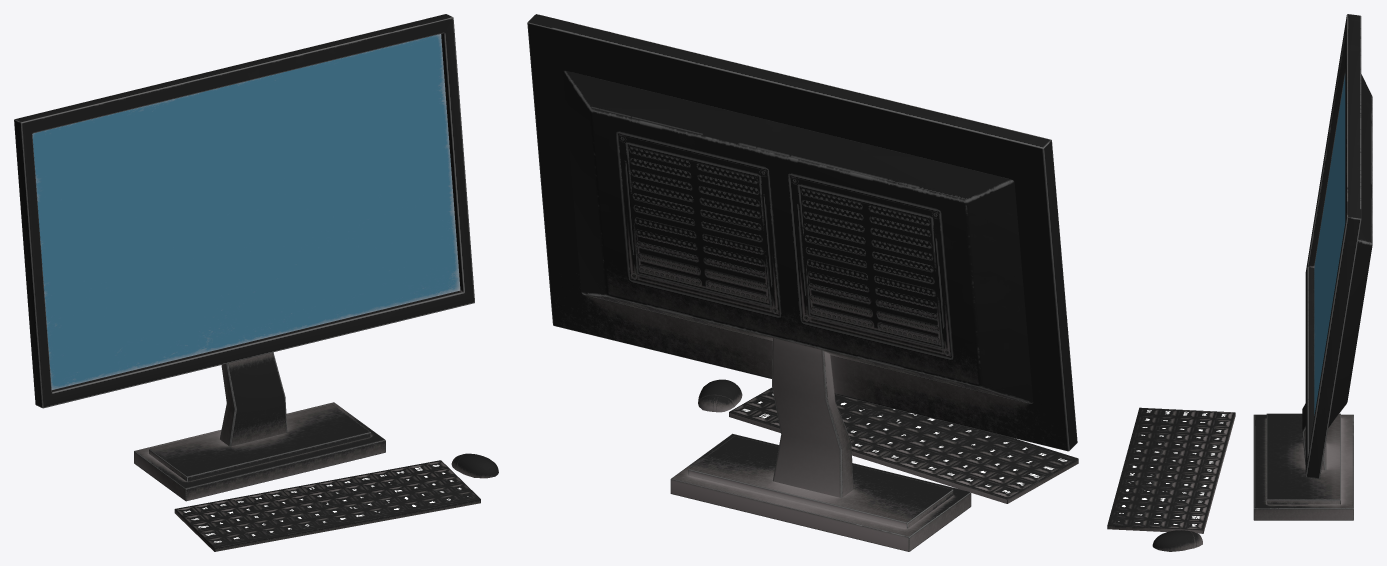
The picture shows the model from 3 angles, left to right: view 1: azimuth 30°, elevation 25°; view 2: azimuth 150°, elevation 25°; view 3: azimuth 270°, elevation 25°; orthographic projection. The views are drawn at different scales.
Visible parts, largest first — view 1: Computer; view 2: Computer; view 3: Computer.
Part boxes in pixels (<box>): Computer: <box>14,14,498,551</box>; Computer: <box>527,14,1078,551</box>; Computer: <box>1107,14,1372,551</box>.
Bounding box in the file's own units: 47.21 × 38.72 × 26.01.
5 materials, 5 textured.
